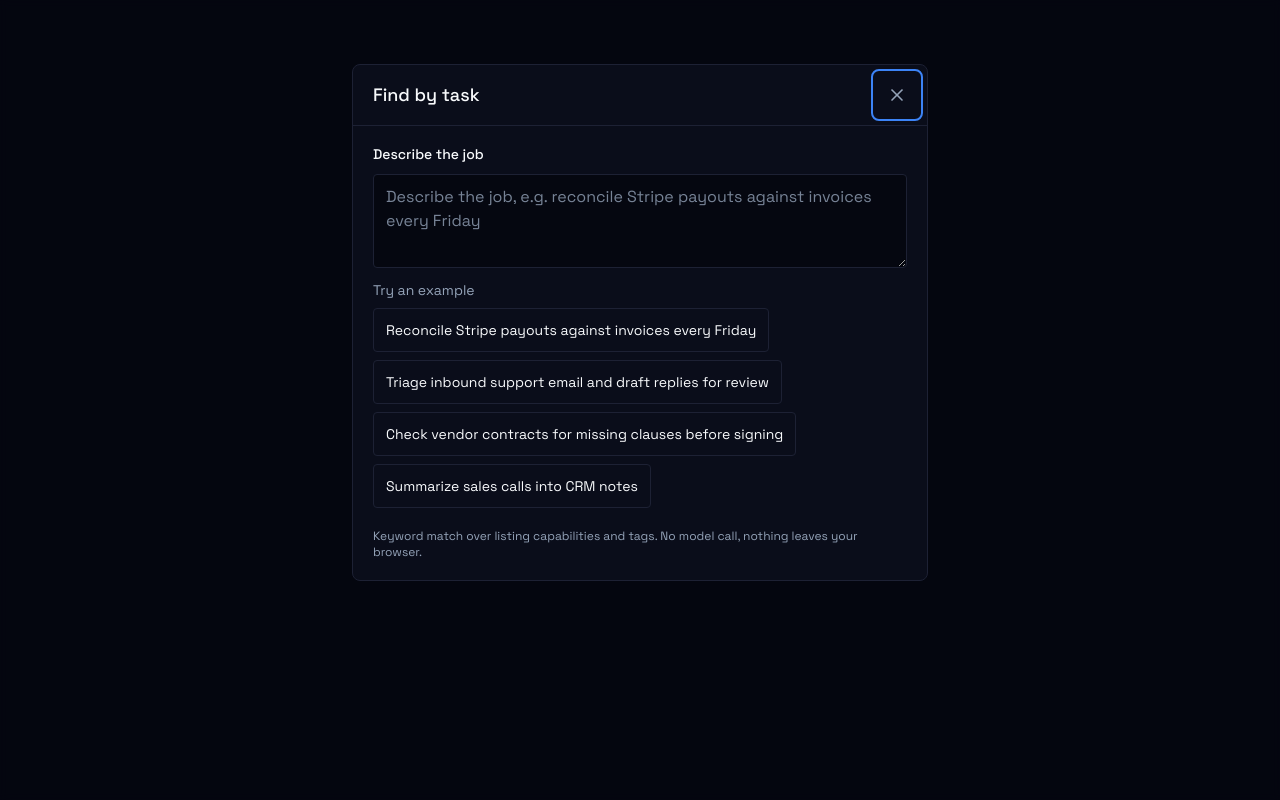
Test case: TaskFinder › fills the textarea from an example brief
Click the button "Reconcile Stripe payouts against invoices every Friday" at (571, 330), box left=373, top=308, right=769, bottom=352
(page scrolled)
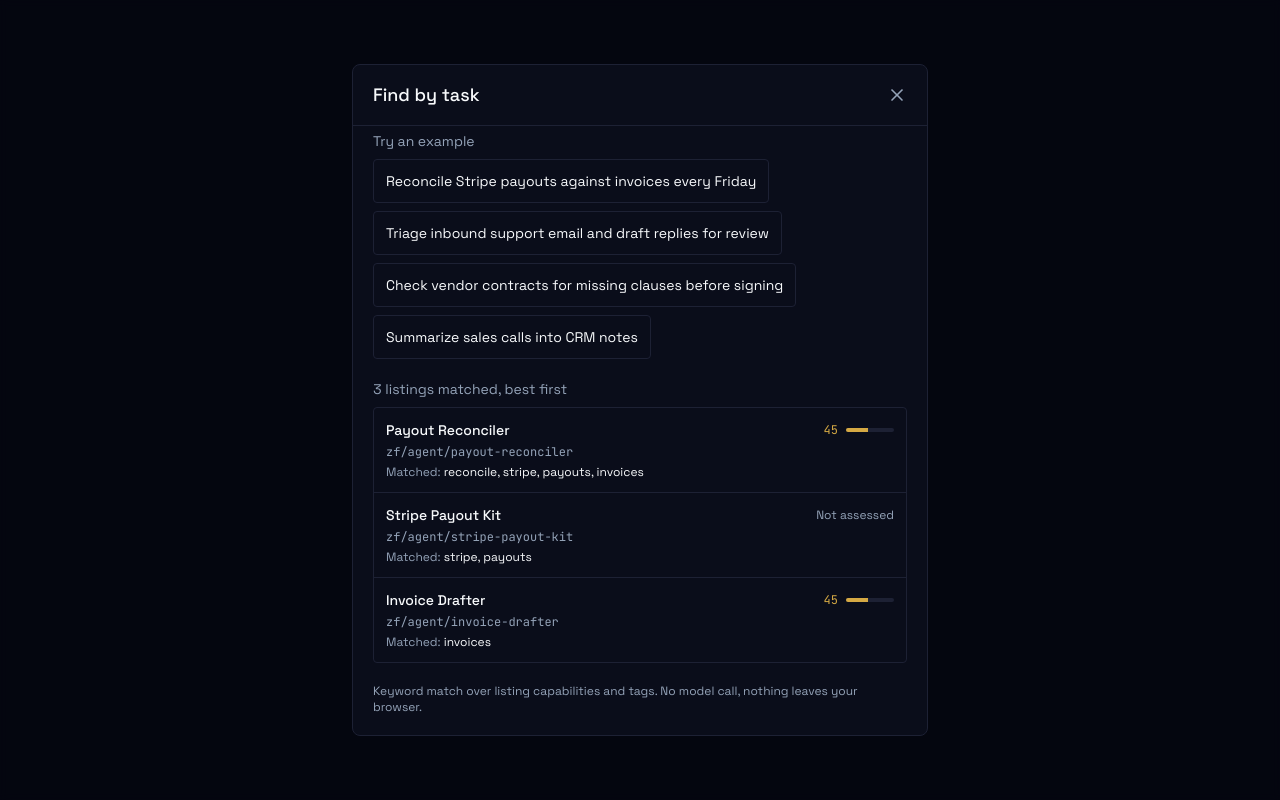
Now the list named "Matching listings" shows "Payout Reconciler", box left=374, top=408, right=906, bottom=492
